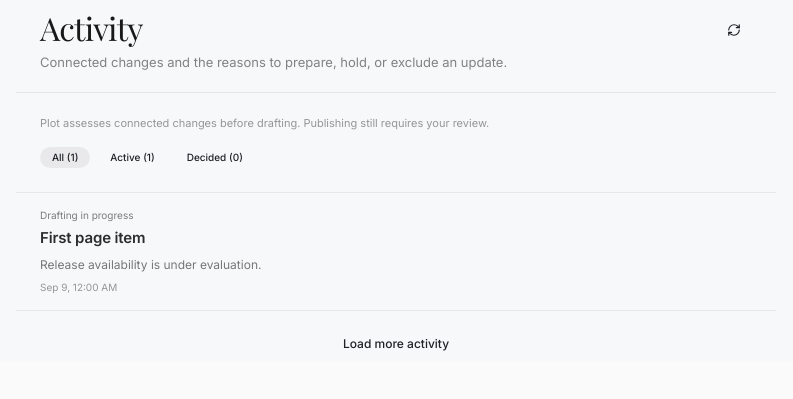
Test: Autonomy Home › handles pagination and preserves loaded items when pagination fails
Expected: the heading "First page item" is shown, [40, 228, 145, 247]
Click the button "Load more activity" at (396, 344), box [328, 328, 464, 362]
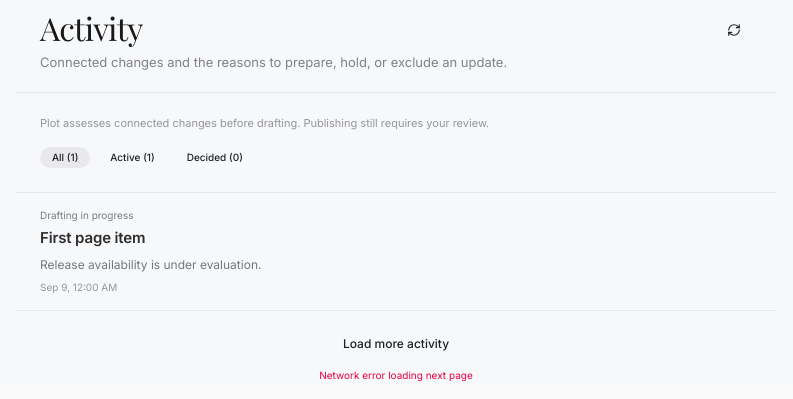
Expected: the heading "First page item" is shown, [40, 228, 145, 247]
Result: the message reads "Network error loading next page" at [319, 370, 473, 382]
